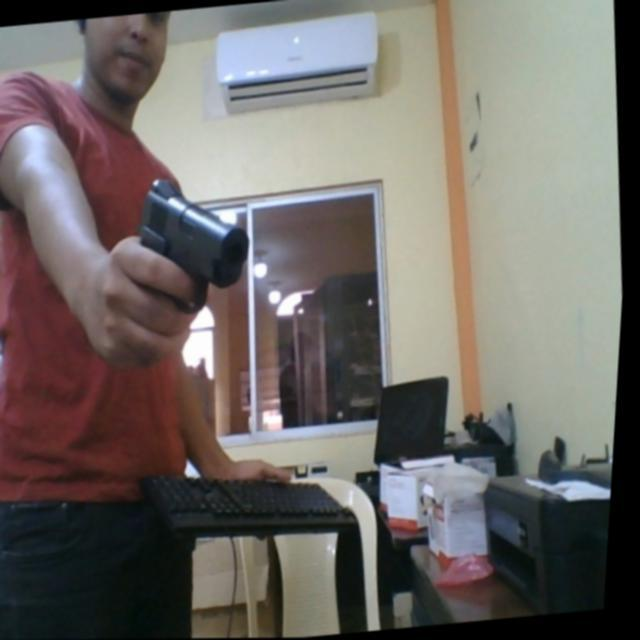weapon: (130, 167, 262, 320)
